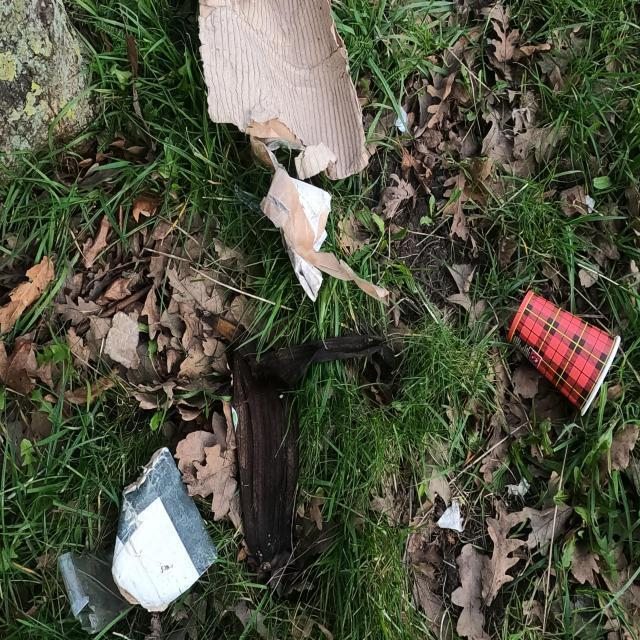Cup: (506, 286, 624, 418)
